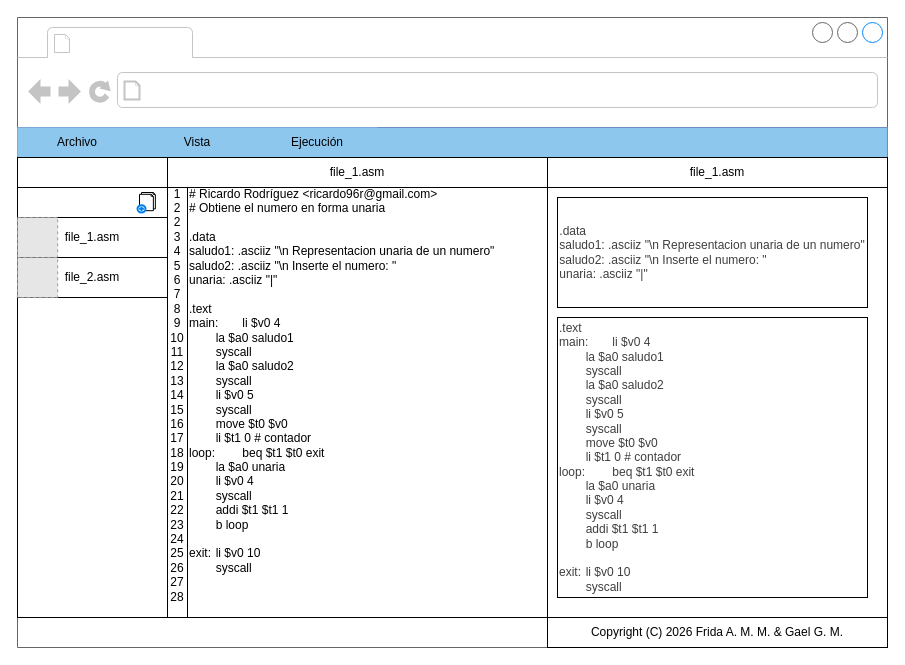
The diagram is 905 pixels wide and 665 high, and some of its shapes have lost their labels. Grey dashed boxes stand in for pictures. Here are the shapes that lost their labels. From the top down, the centre of each, then its label:
At (x=132, y=42): "HachiSoftware".
At (x=272, y=90): "https://hachisoftware.dev".
At (x=92, y=172): "Explorador".
